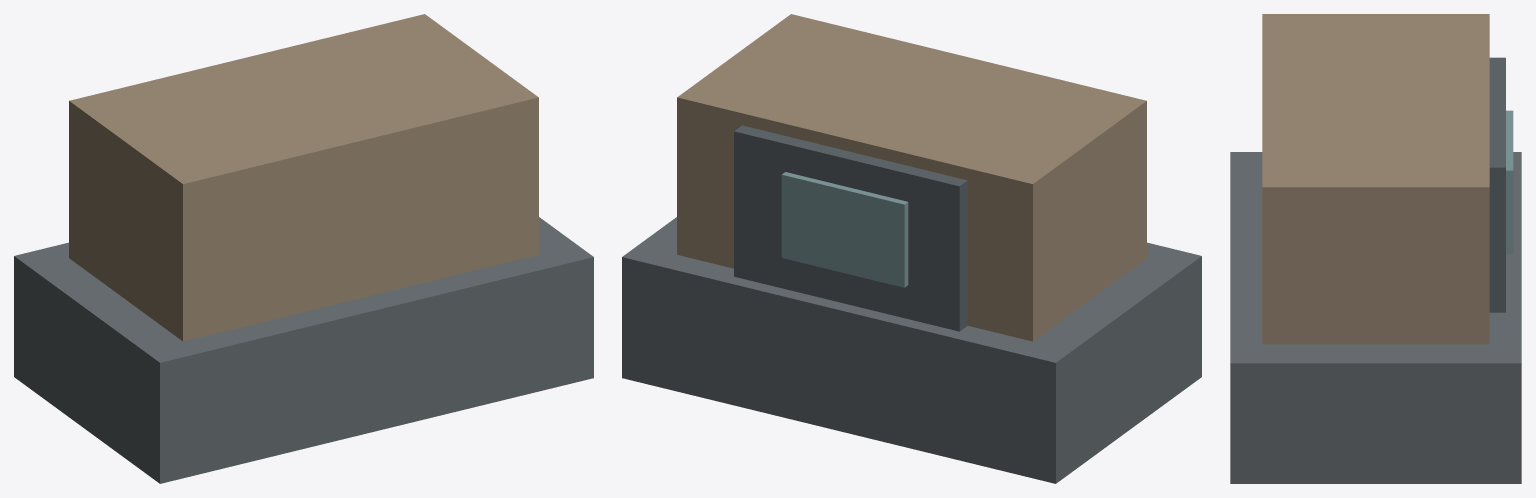
File: iz3_school_desk_02.glb
The picture shows the model from 3 angles, left to right: view 1: azimuth 30°, elevation 25°; view 2: azimuth 150°, elevation 25°; view 3: azimuth 270°, elevation 25°; orthographic projection.
Visible parts, largest first — view 1: cabinet, base; view 2: base, cabinet, panel, display; view 3: cabinet, base, panel, display.
Boxes of the visible parts, x1,y1,x2,y2 form: cabinet: (69, 14, 538, 341); base: (14, 217, 593, 483); base: (622, 217, 1201, 483); cabinet: (677, 14, 1146, 341); panel: (734, 125, 967, 331); display: (781, 172, 908, 287); cabinet: (1262, 14, 1489, 344); base: (1230, 152, 1521, 483); panel: (1489, 57, 1505, 312); display: (1506, 110, 1513, 253).
Size of the model in its own units: 1.2 by 0.736 by 0.7.
